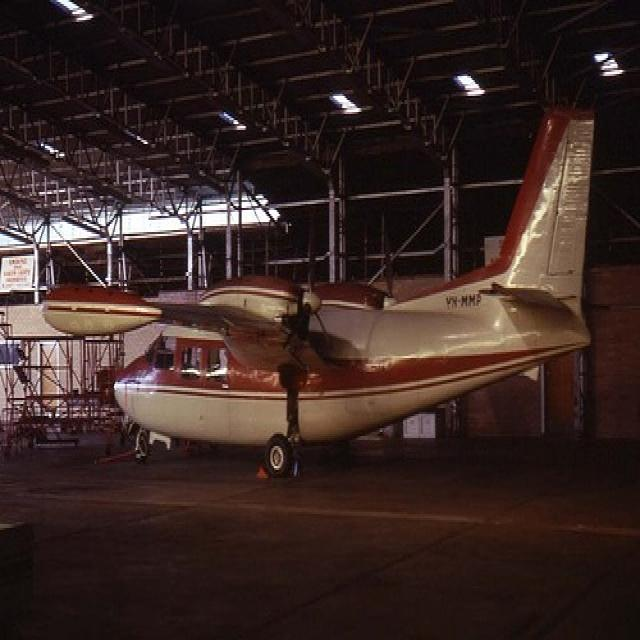aeroplane: (31, 96, 604, 492)
